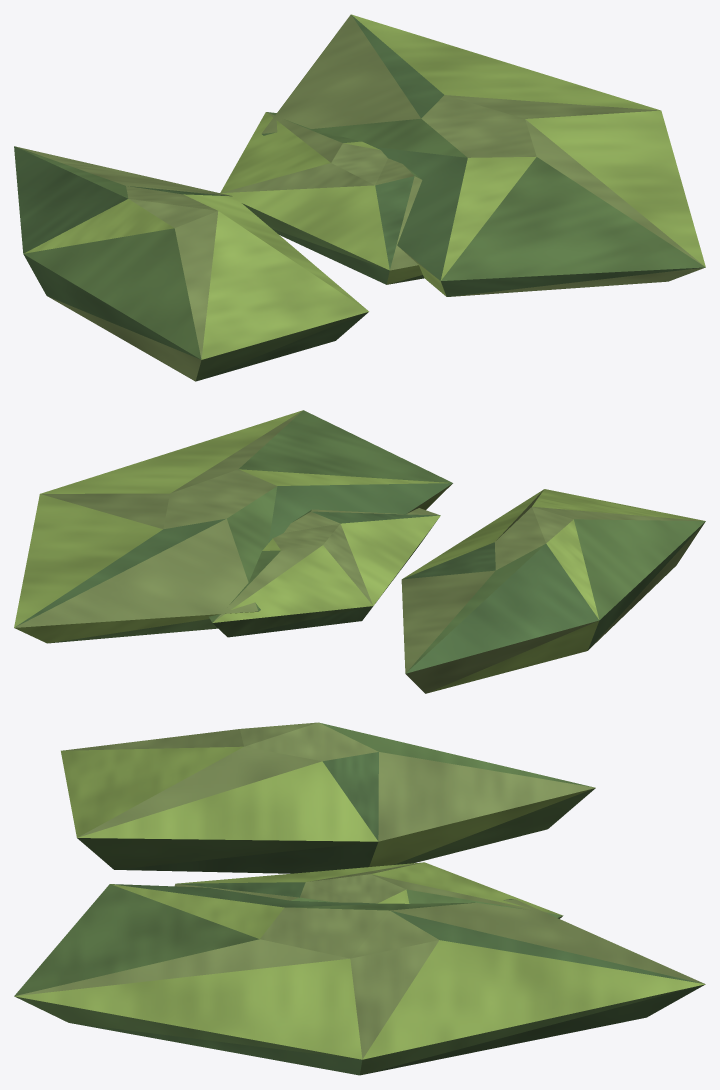
File: moss_patch_01.fbx
The picture shows the model from 3 angles, top to bottom: view 1: azimuth 30°, elevation 25°; view 2: azimuth 150°, elevation 25°; view 3: azimuth 270°, elevation 25°; orthographic projection. The views are drawn at different scales.
Parts seen in each view (by area): view 1: moss_patch_01; view 2: moss_patch_01; view 3: moss_patch_01.
Part boxes in pixels (x1,y1,x2,y2): moss_patch_01: (14, 14, 705, 381); moss_patch_01: (14, 410, 705, 693); moss_patch_01: (14, 722, 705, 1075).
Size of the model in its own units: 118 by 17 by 110.
1 material, 1 textured.
